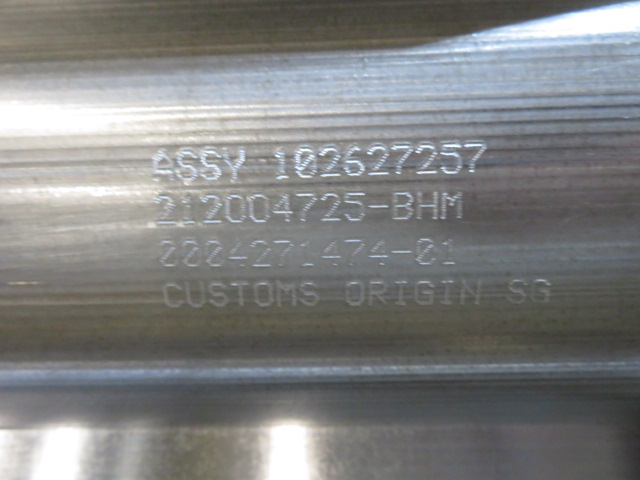character: (461, 137, 490, 178), (148, 148, 176, 186), (150, 193, 180, 228), (292, 144, 319, 182), (413, 186, 440, 224), (438, 188, 466, 224), (456, 275, 484, 311), (389, 140, 415, 178), (439, 138, 465, 176), (200, 190, 227, 226), (293, 191, 321, 225), (342, 143, 367, 181), (175, 145, 198, 186), (222, 145, 246, 184), (413, 140, 439, 176), (391, 186, 416, 223), (412, 233, 439, 267), (363, 278, 391, 310), (318, 142, 341, 180), (528, 276, 556, 307), (198, 146, 222, 182), (248, 191, 272, 227), (410, 278, 436, 311), (201, 238, 225, 273), (178, 190, 200, 228), (366, 189, 392, 221), (366, 142, 389, 178), (225, 191, 248, 227), (343, 190, 368, 223), (365, 234, 390, 267), (270, 145, 292, 182), (319, 192, 344, 224), (154, 237, 179, 269), (504, 275, 529, 307), (271, 191, 295, 224), (294, 236, 318, 269), (204, 279, 231, 308), (273, 279, 299, 309), (296, 278, 320, 310), (389, 234, 412, 267), (248, 238, 273, 268), (341, 236, 365, 267), (436, 276, 457, 311), (159, 281, 185, 309), (273, 236, 295, 268), (319, 233, 341, 265), (250, 280, 274, 309), (229, 278, 250, 311), (179, 238, 201, 269), (343, 279, 366, 308), (389, 279, 410, 310), (184, 280, 207, 308), (438, 237, 458, 266)
